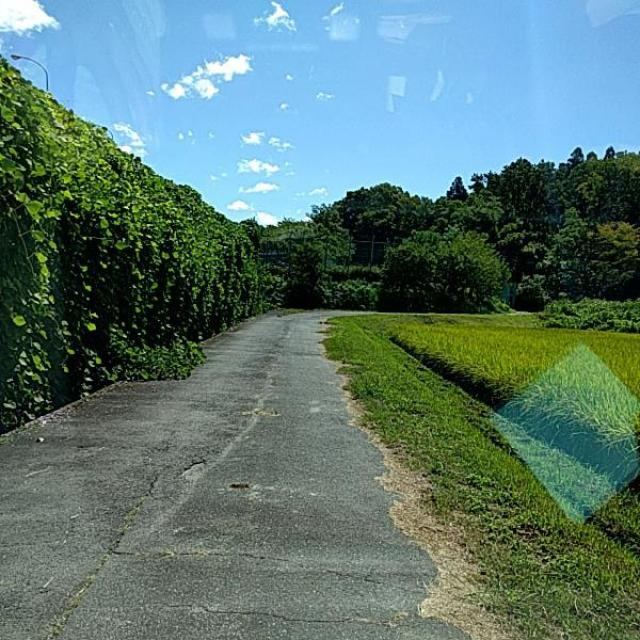Crack: (55, 302, 382, 640)
